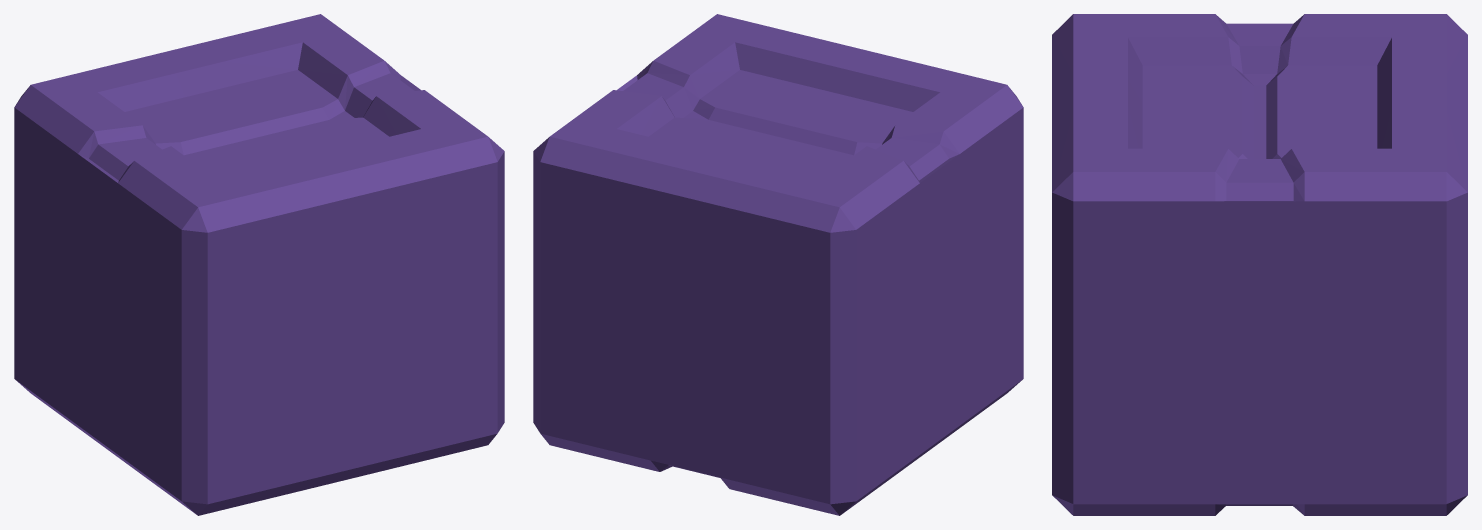
The picture shows the model from 3 angles, left to right: view 1: azimuth 30°, elevation 25°; view 2: azimuth 150°, elevation 25°; view 3: azimuth 270°, elevation 25°; orthographic projection. The views are drawn at different scales.
Visible parts, largest first — view 1: 002_Cube_005; view 2: 002_Cube_005; view 3: 002_Cube_005.
Part boxes in pixels (x1=…): 002_Cube_005: x1=14, y1=14, x2=504, y2=515; 002_Cube_005: x1=533, y1=14, x2=1023, y2=515; 002_Cube_005: x1=1052, y1=14, x2=1467, y2=515.
Size of the model in its own units: 29.14 by 26.61 by 29.14.
